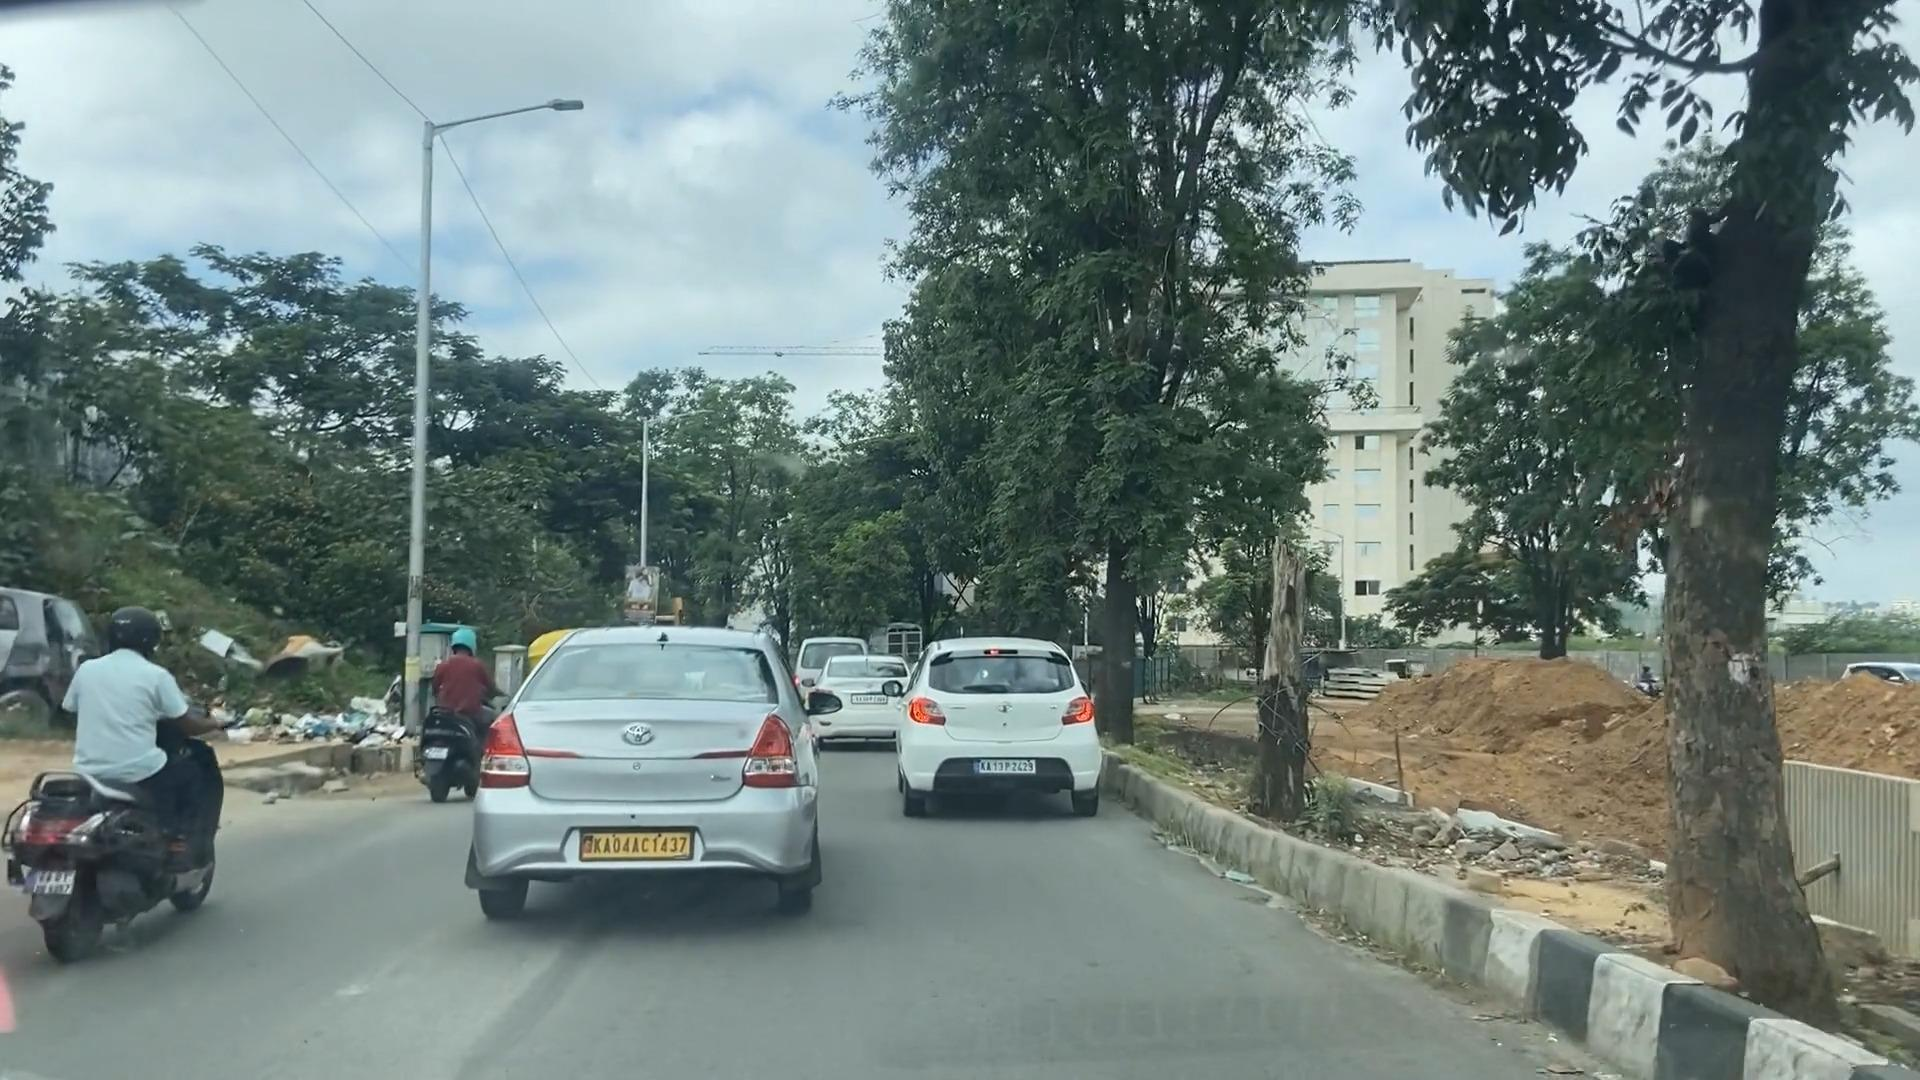LMV: (492, 678, 782, 885), (36, 626, 224, 887), (918, 654, 1093, 815), (433, 626, 467, 787)
